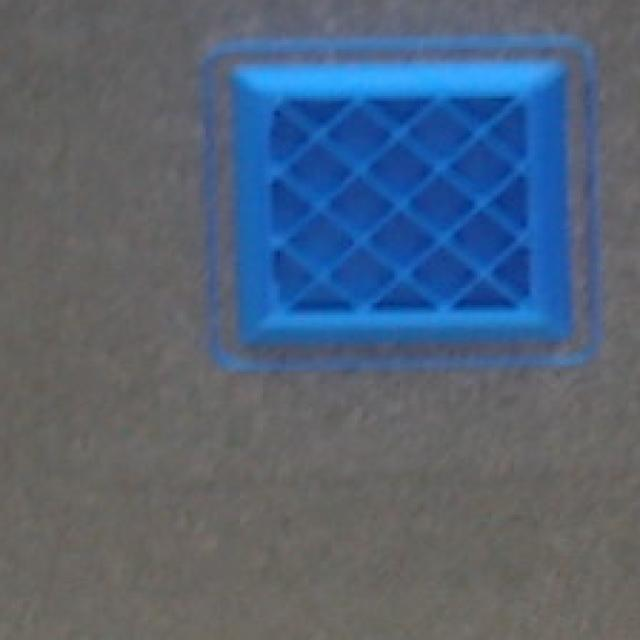noMistake: (203, 39, 597, 369)
